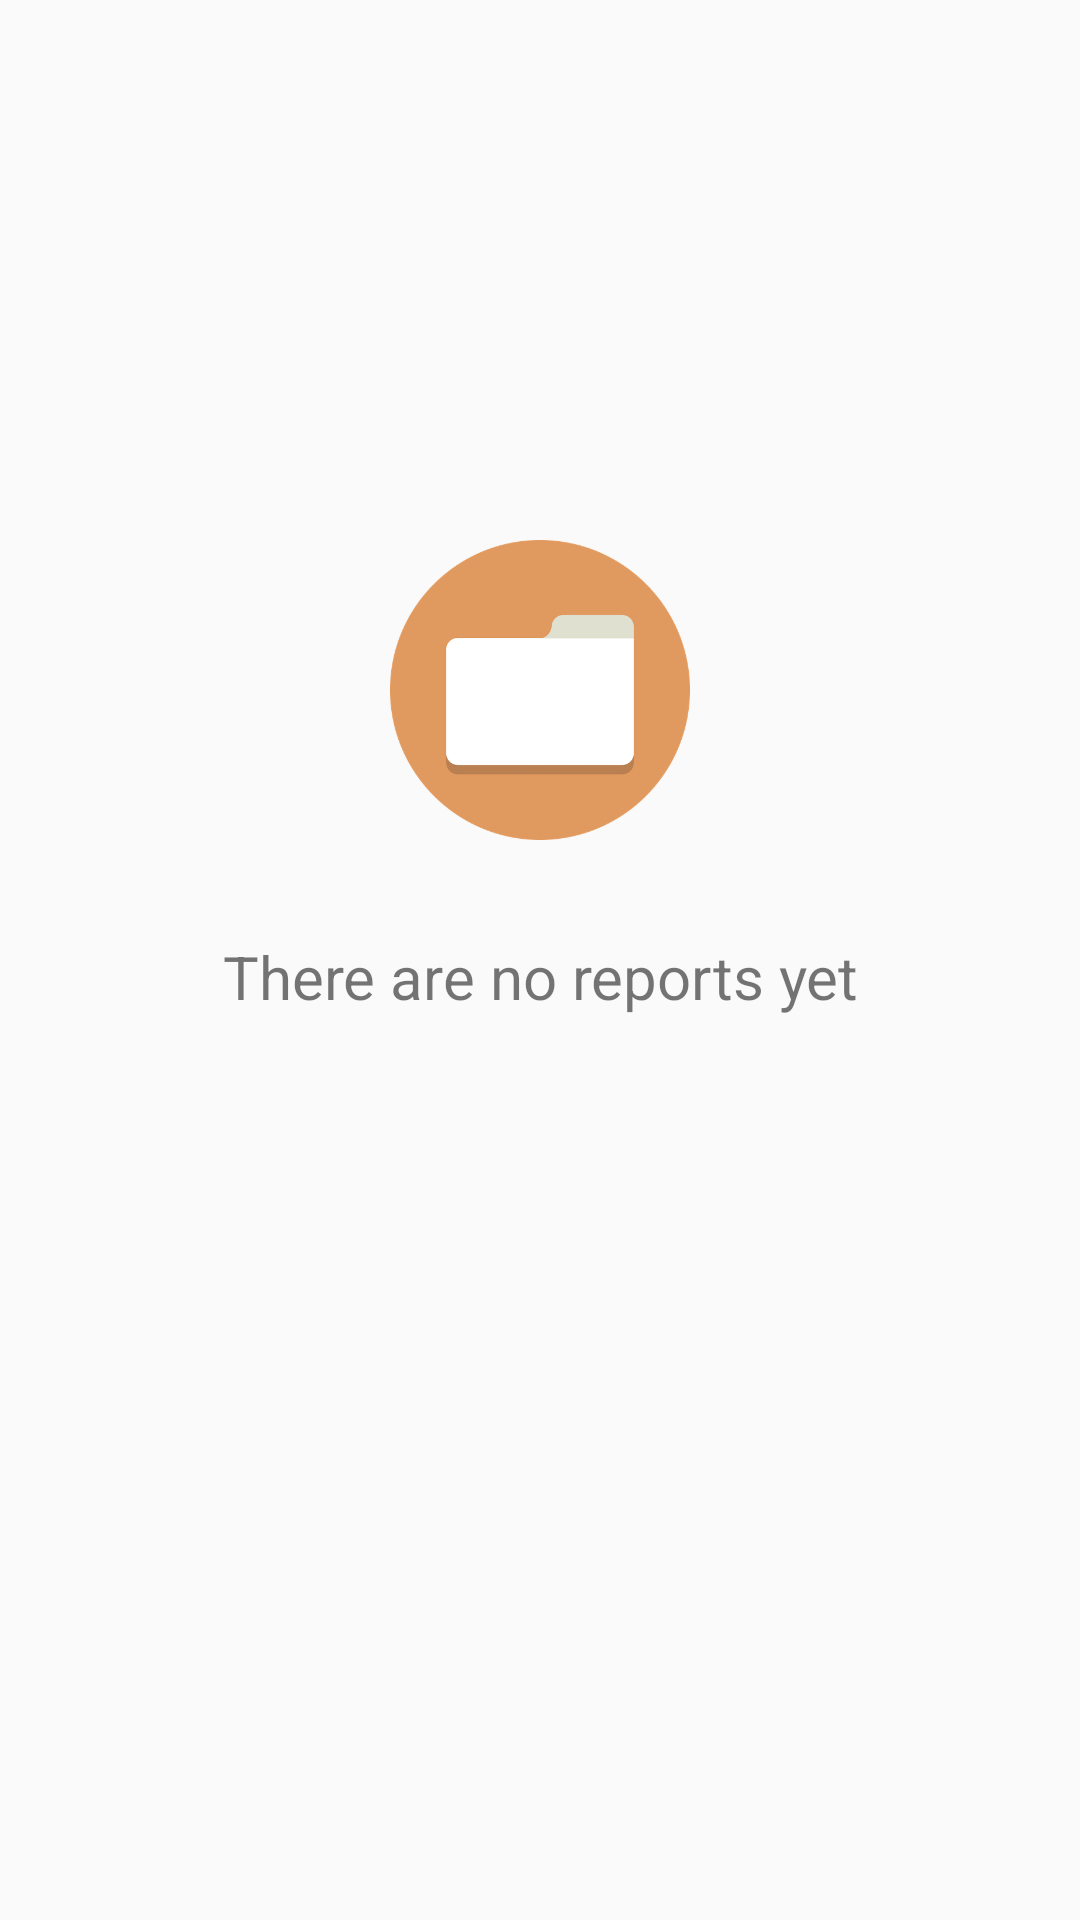

Screen size 1080*1920. Icon name, then its center in pixels as (x,y):
folder empty: (540,690)
